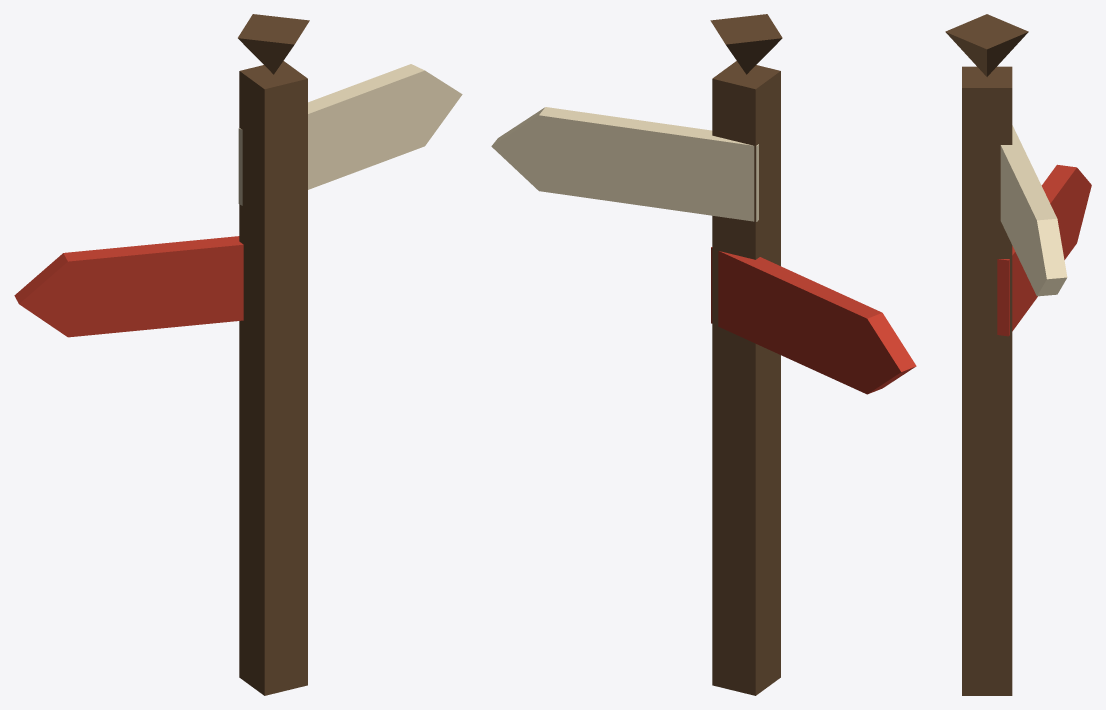
File: Cove_Sign.glb
3 views of the same model, side by side, from view 1: azimuth 30°, elevation 25°; view 2: azimuth 150°, elevation 25°; view 3: azimuth 270°, elevation 25° (orthographic).
Parts seen in each view (by area): view 1: Cove_Sign; view 2: Cove_Sign; view 3: Cove_Sign.
Boxes of the visible parts, x1,y1,x2,y2 form: Cove_Sign: [14, 14, 462, 695]; Cove_Sign: [491, 14, 916, 695]; Cove_Sign: [945, 14, 1091, 695].
Size of the model in its own units: 1.19 by 1.72 by 0.3501.
1 material, 1 textured.
